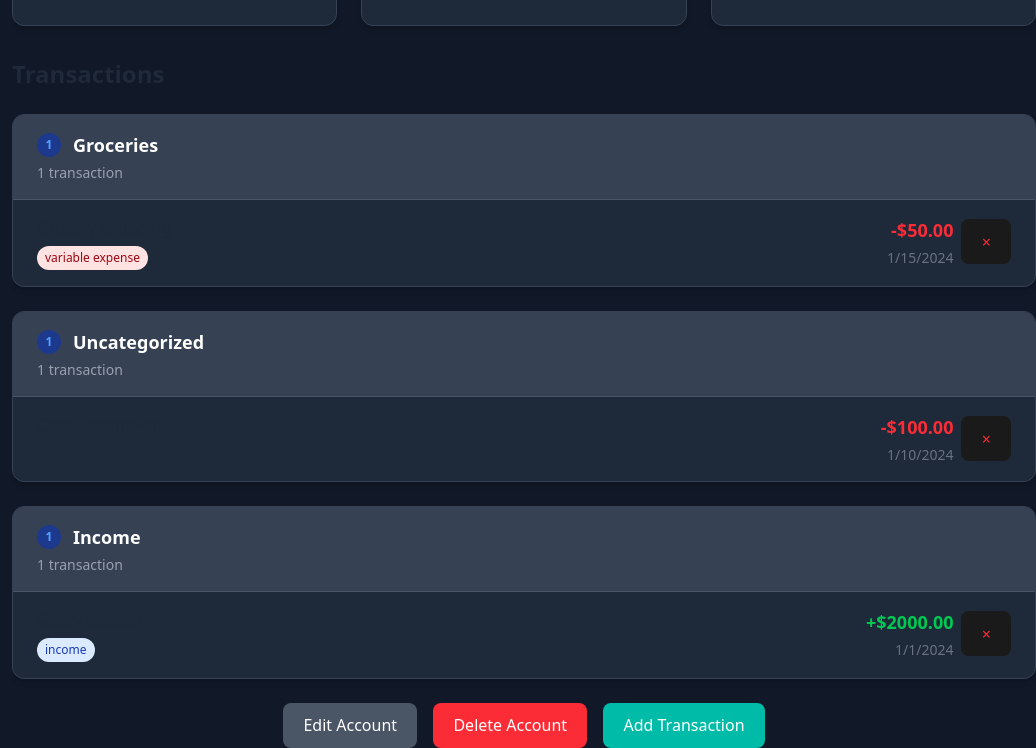
Scenario: Account Component › toggles transaction form when Add Transaction button is clicked
(page scrolled)
Click the button "Add Transaction". click: point(684, 725)
box: [603,702,765,747]
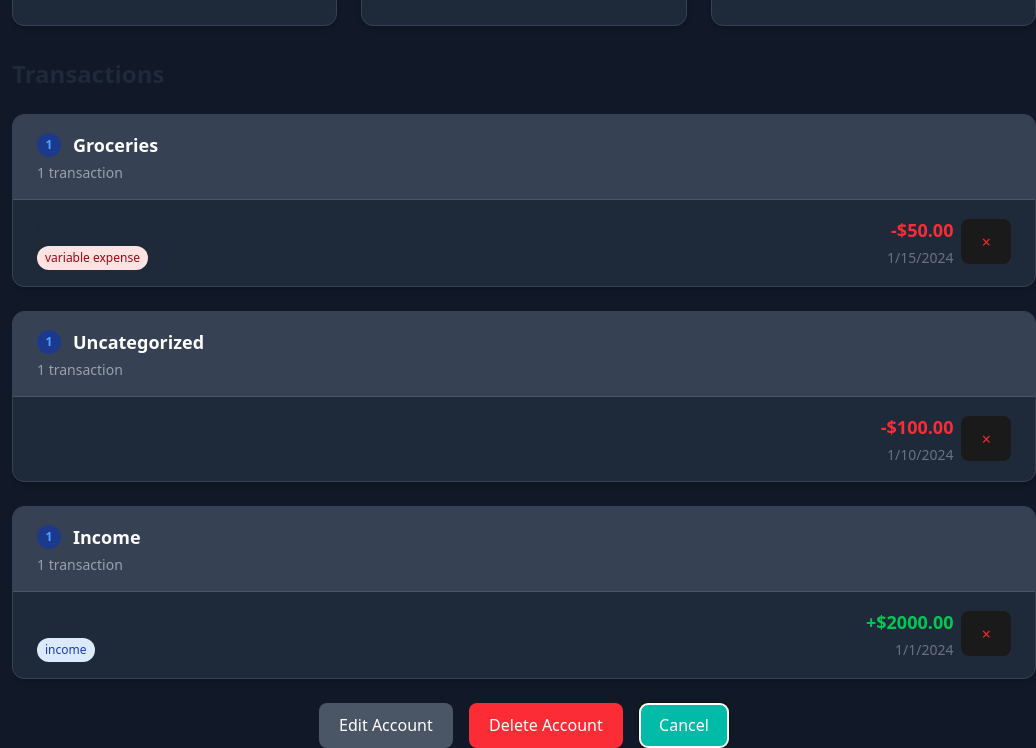
Check: the button "Cancel" is shown
Click the button "Cancel". click: point(684, 725)
box: [639,702,729,747]
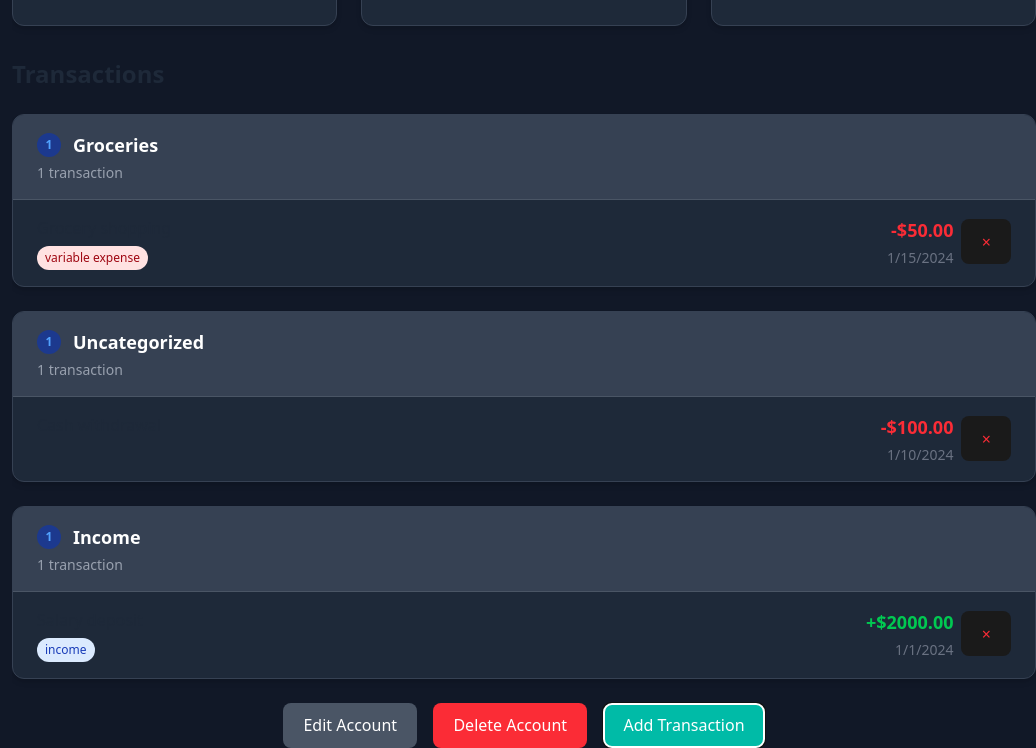
Check: the button "Add Transaction" is shown, box [603,702,765,747]
